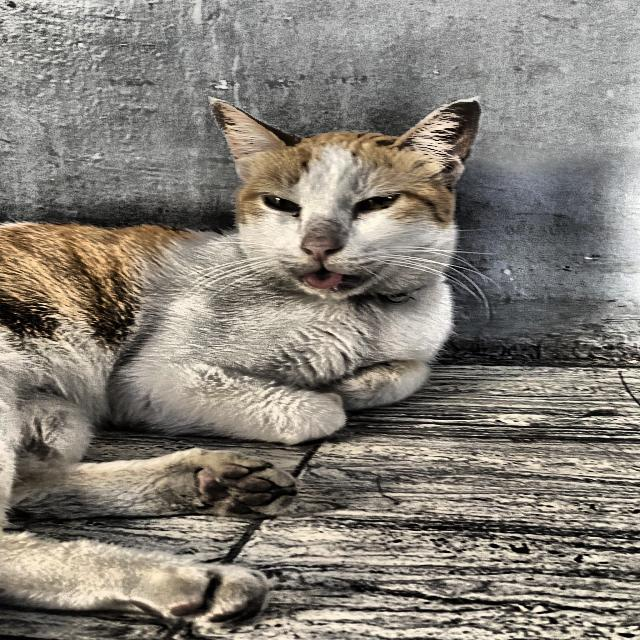Healthy skin: (55, 254, 208, 360), (292, 234, 434, 330), (208, 98, 336, 186)
